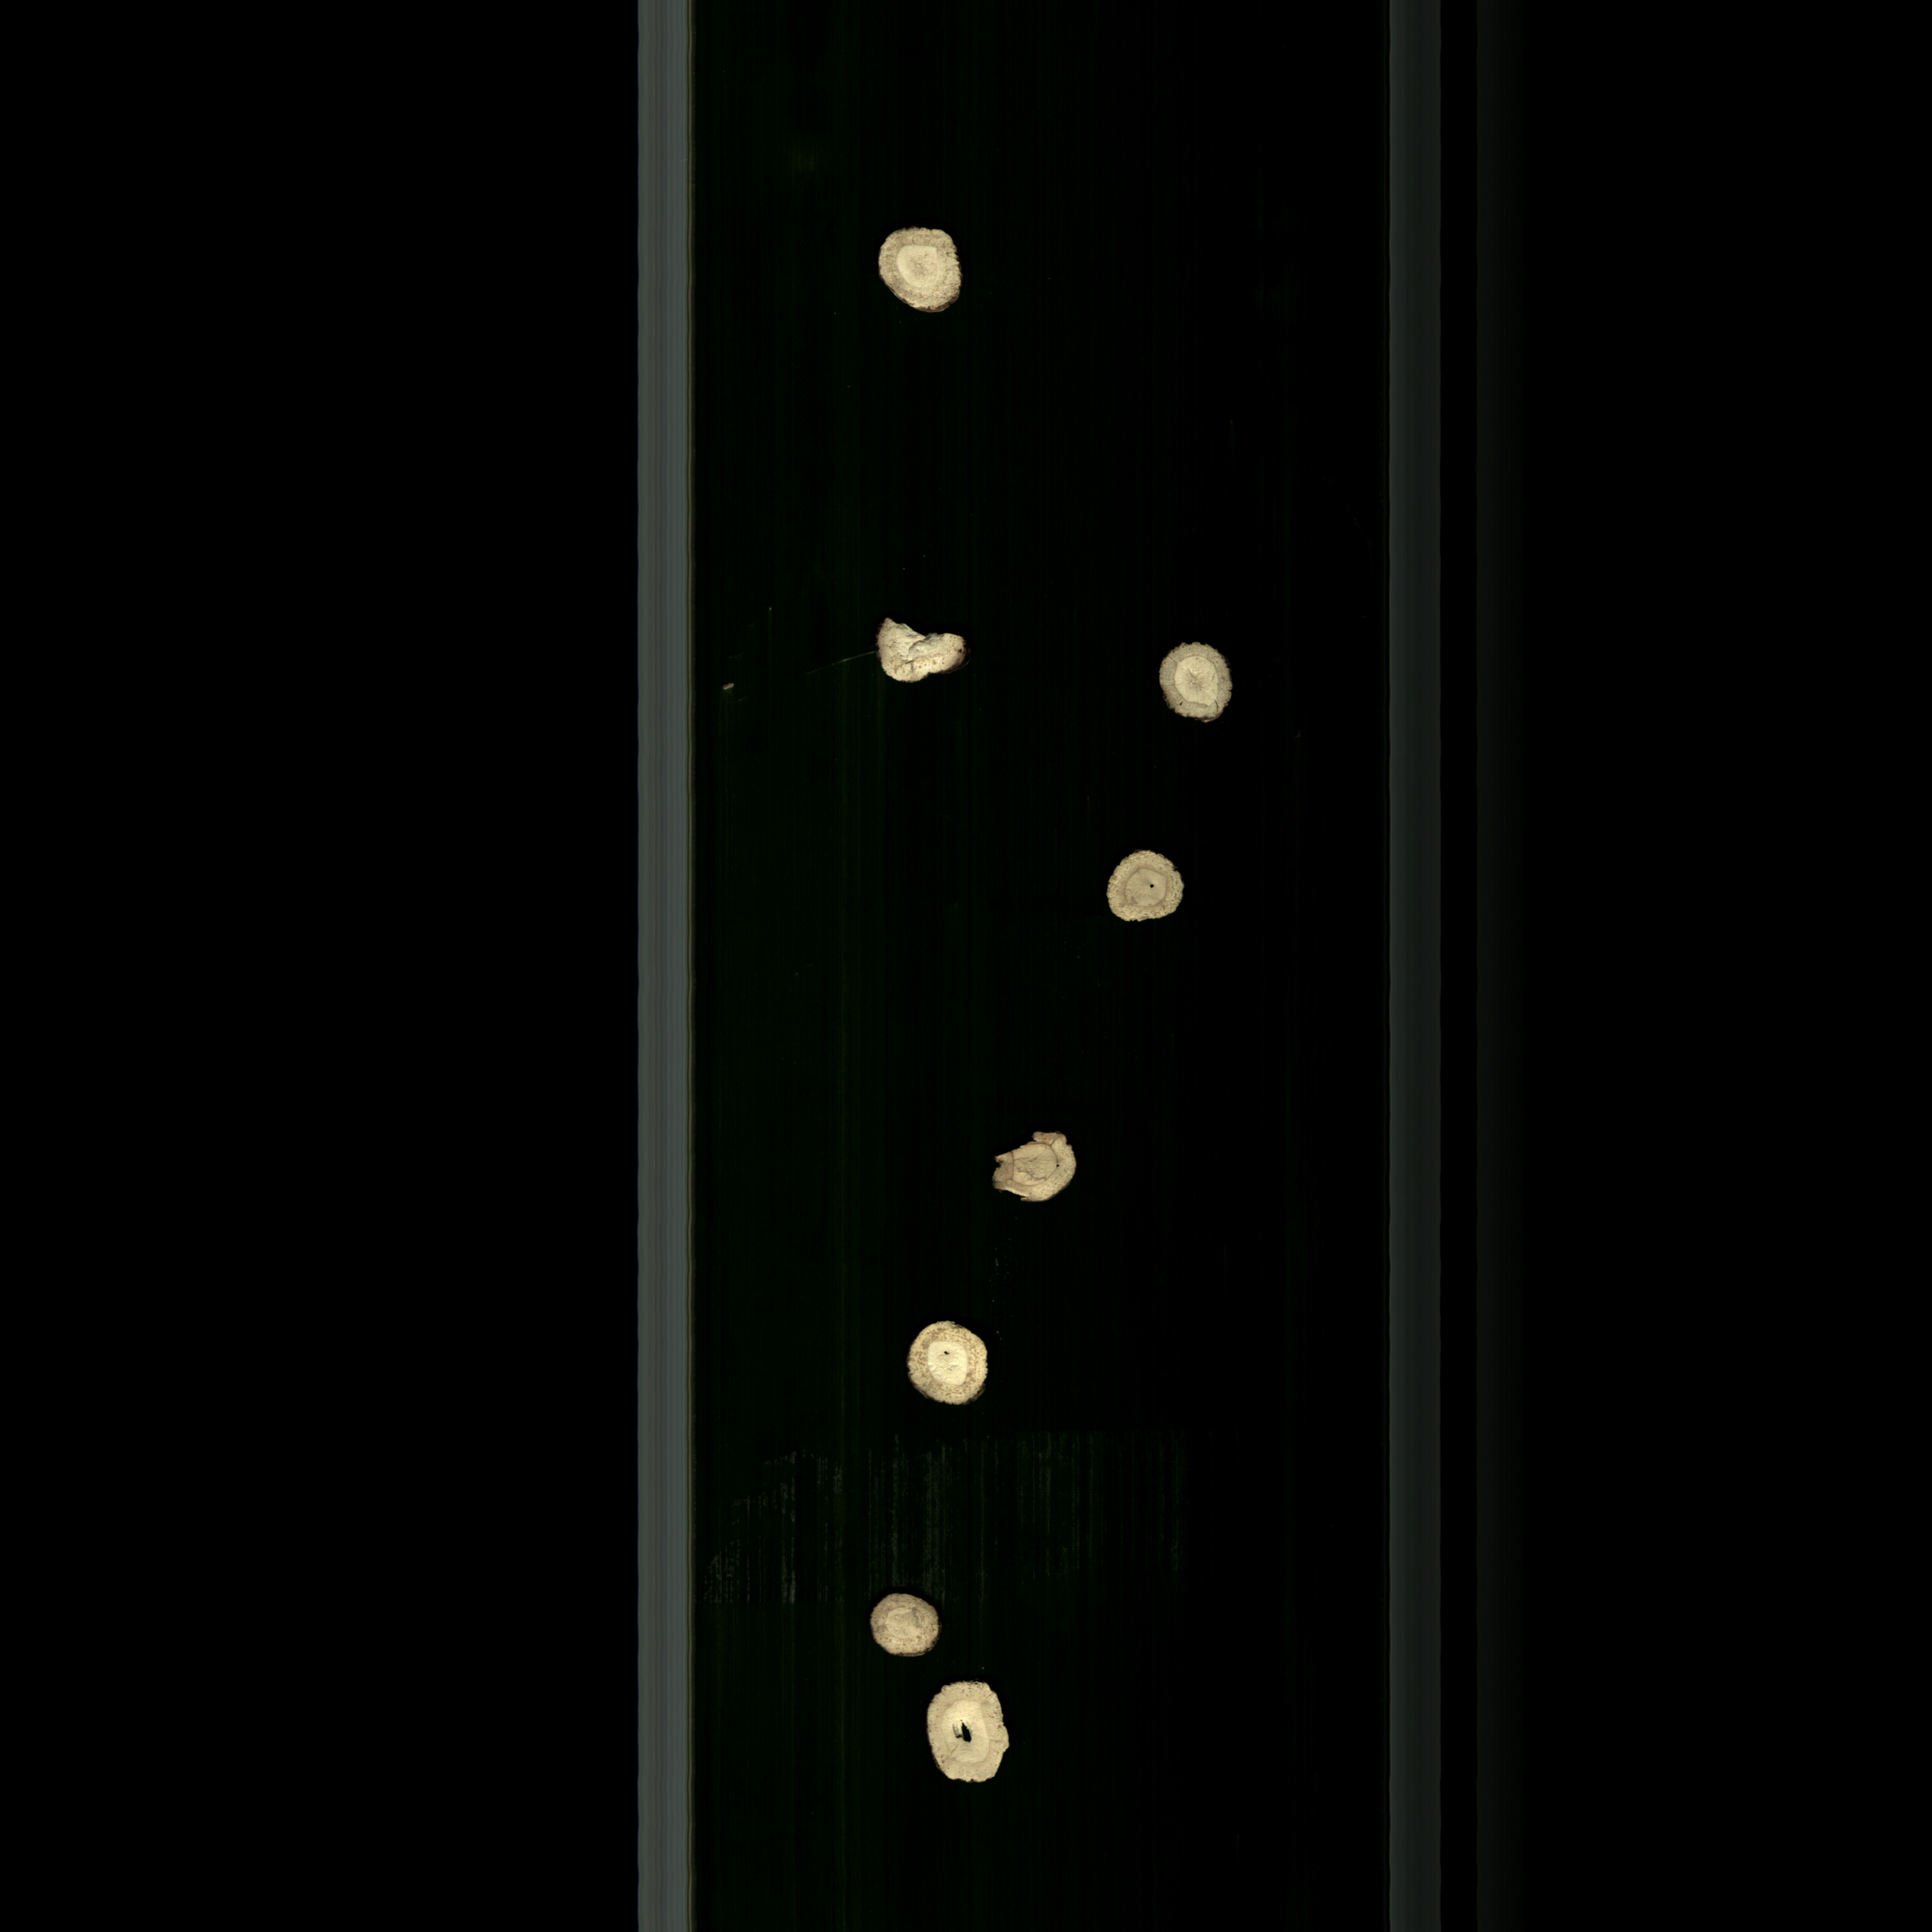debris: (862, 614, 978, 688), (984, 1122, 1085, 1207)
hole: (920, 1677, 1019, 1787), (899, 1316, 998, 1412), (1099, 847, 1201, 932)
moldy: (865, 223, 975, 317), (870, 1594, 947, 1661)
